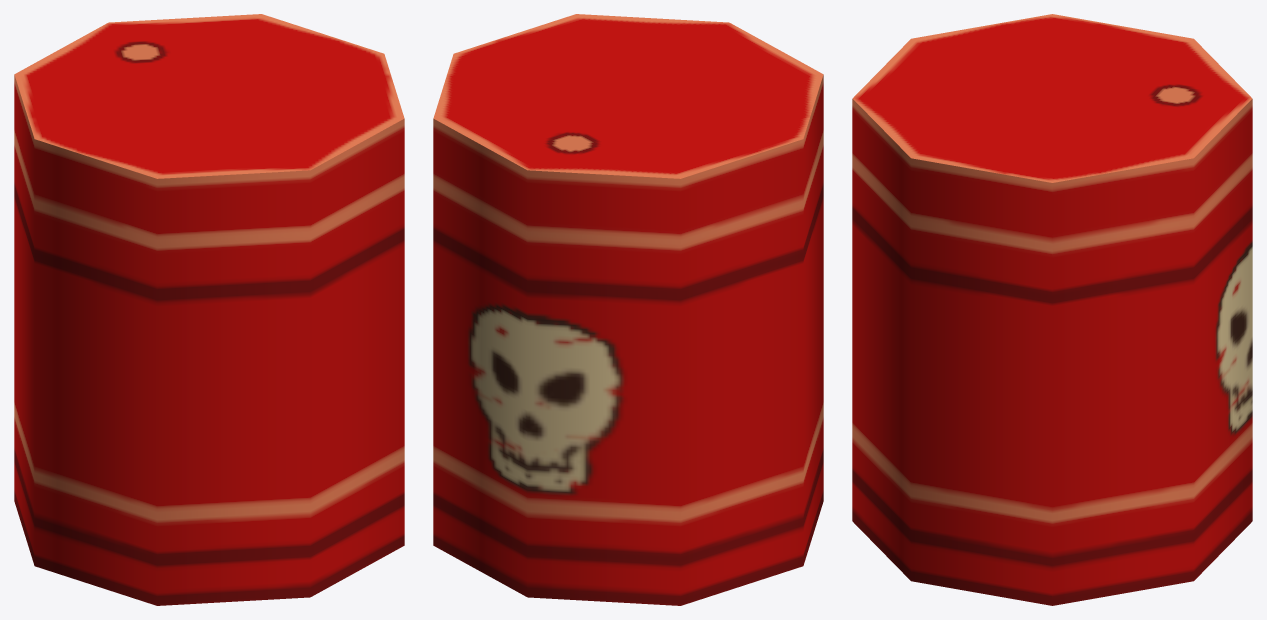
The model's file is barrel.fbx.
3 renders of one model, left to right at view 1: azimuth 30°, elevation 25°; view 2: azimuth 150°, elevation 25°; view 3: azimuth 270°, elevation 25°, orthographic.
Visible parts, largest first — view 1: Cylinder; view 2: Cylinder; view 3: Cylinder.
Part boxes in pixels (box(x1,y1,x2,y2)): Cylinder: box(14, 14, 404, 605); Cylinder: box(433, 14, 823, 605); Cylinder: box(852, 14, 1252, 605).
Size of the model in its own units: 60 by 70 by 60.
Materials: 1 (1 with a texture image).
